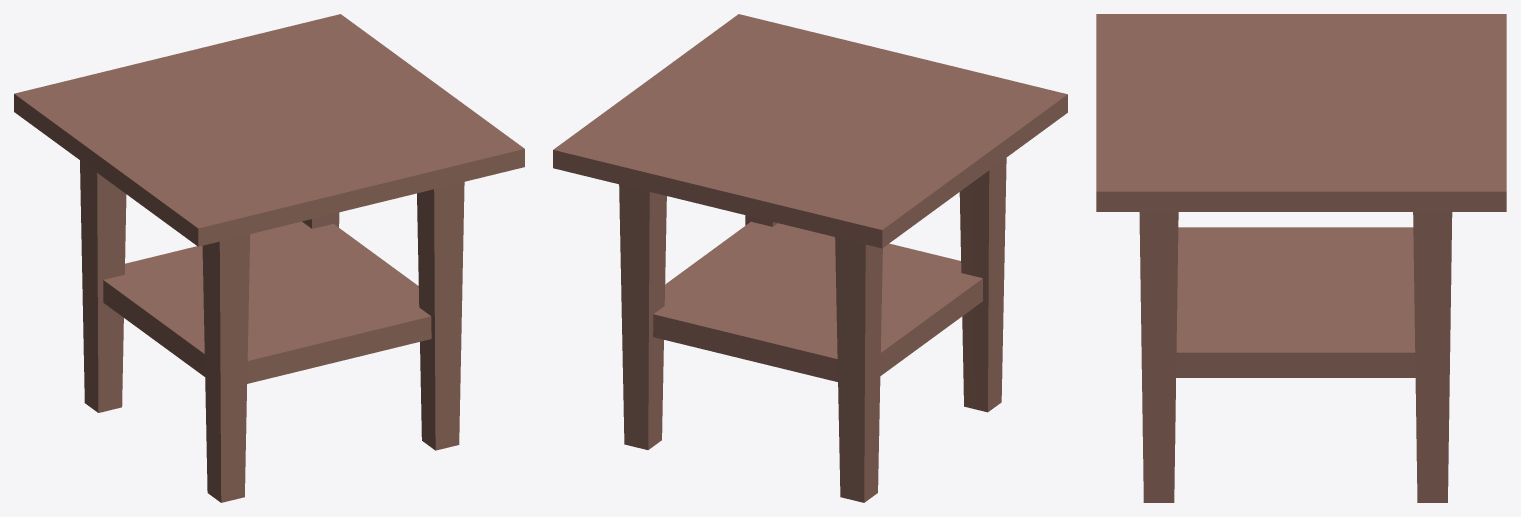
File: coffee_table_003.glb
3 renders of one model, left to right at view 1: azimuth 30°, elevation 25°; view 2: azimuth 150°, elevation 25°; view 3: azimuth 270°, elevation 25°, orthographic. The views are drawn at different scales.
Visible parts, largest first — view 1: coffee_table_003; view 2: coffee_table_003; view 3: coffee_table_003.
Boxes of the visible parts, bbox=[...] form: coffee_table_003: bbox=[14, 14, 524, 502]; coffee_table_003: bbox=[553, 14, 1067, 502]; coffee_table_003: bbox=[1096, 14, 1506, 502].
Bounding box in the file's own units: 0.5485 × 0.4829 × 0.5357.
1 material, 1 textured.
